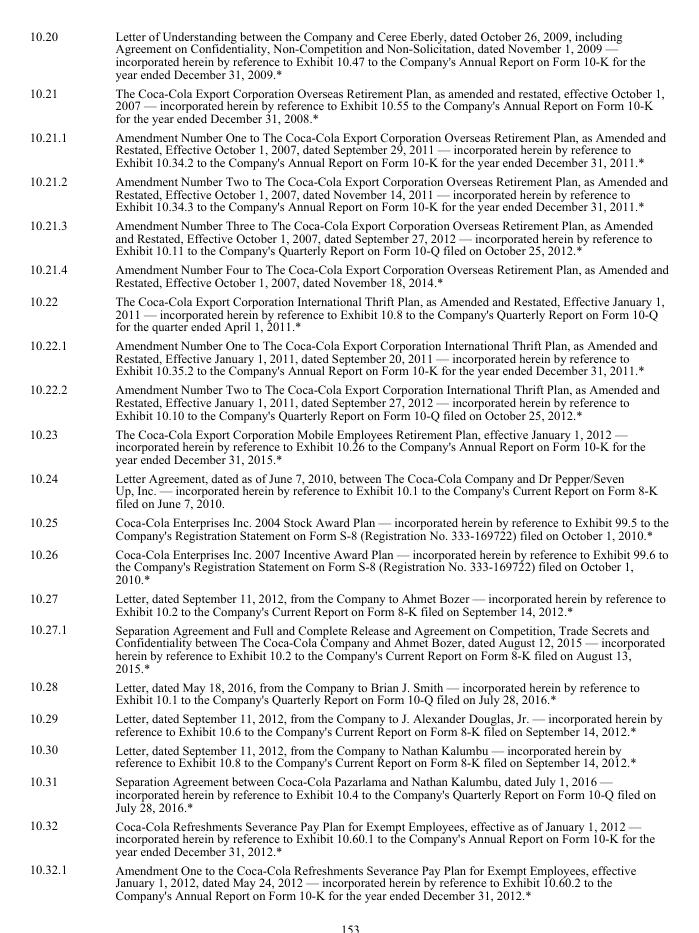table: (28, 28, 667, 901)
table column: (90, 28, 667, 901), (28, 28, 90, 901)
table row: (28, 619, 667, 676), (28, 28, 667, 82), (28, 82, 667, 127), (28, 423, 667, 468), (28, 127, 667, 171), (28, 171, 667, 215), (28, 215, 667, 259), (28, 291, 667, 335), (28, 335, 667, 379), (28, 379, 667, 423), (28, 468, 667, 512), (28, 543, 667, 587), (28, 771, 667, 815), (28, 815, 667, 859), (28, 859, 667, 901), (28, 259, 667, 291), (28, 587, 667, 619), (28, 676, 667, 708), (28, 739, 667, 771), (28, 512, 667, 543), (28, 708, 667, 739)
